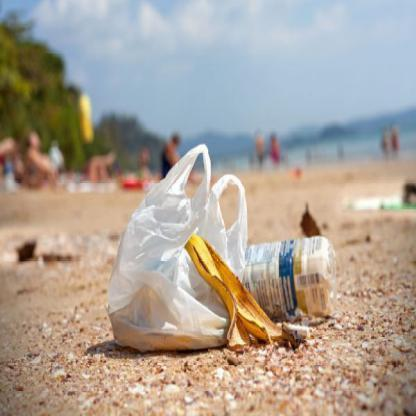Plastic: (232, 233, 334, 315)
